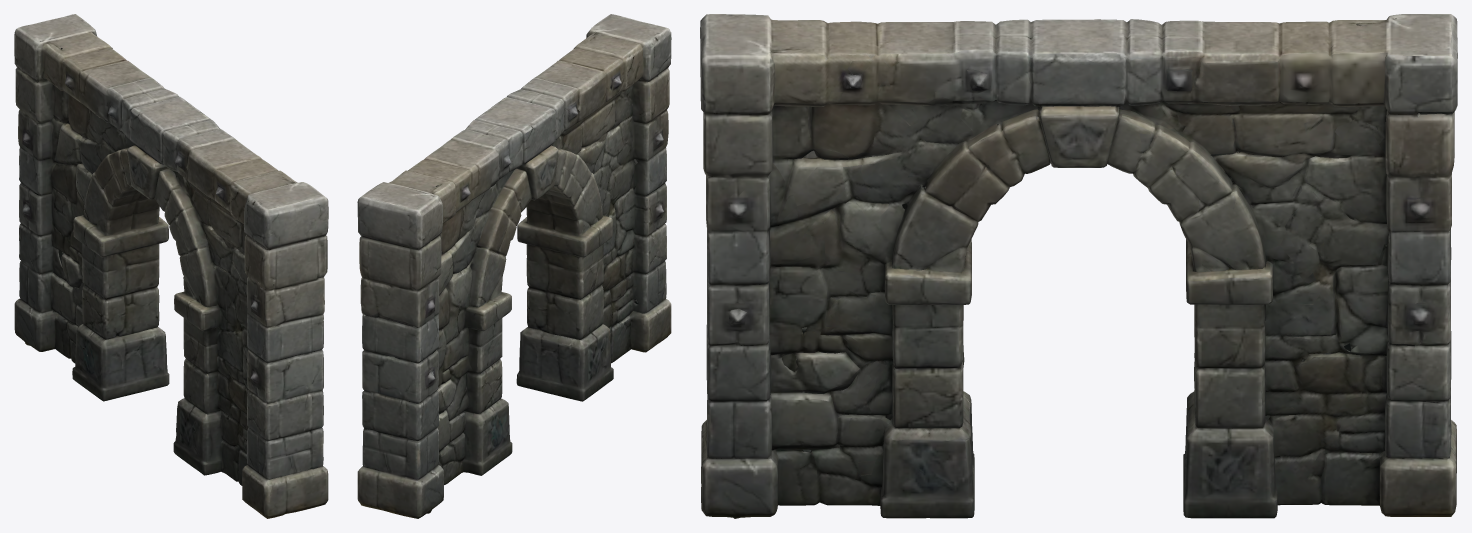
File: DungeonWall_Doorway_Arch_Alpha_S1337_D80000_Trellis2.glb
The picture shows the model from 3 angles, left to right: view 1: azimuth 30°, elevation 25°; view 2: azimuth 150°, elevation 25°; view 3: azimuth 270°, elevation 25°; orthographic projection. The views are drawn at different scales.
Visible parts, largest first — view 1: world; view 2: world; view 3: world.
Part boxes in pixels (left/top/right/bottom): world: left=14, top=14, right=328, bottom=518; world: left=357, top=14, right=671, bottom=518; world: left=700, top=14, right=1457, bottom=518.
Bounding box in the file's own units: 0.1598 × 0.6747 × 1.
1 material, 1 textured.
